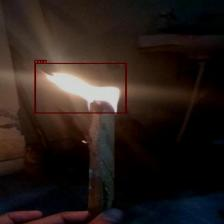fire: (34, 63, 126, 113)
